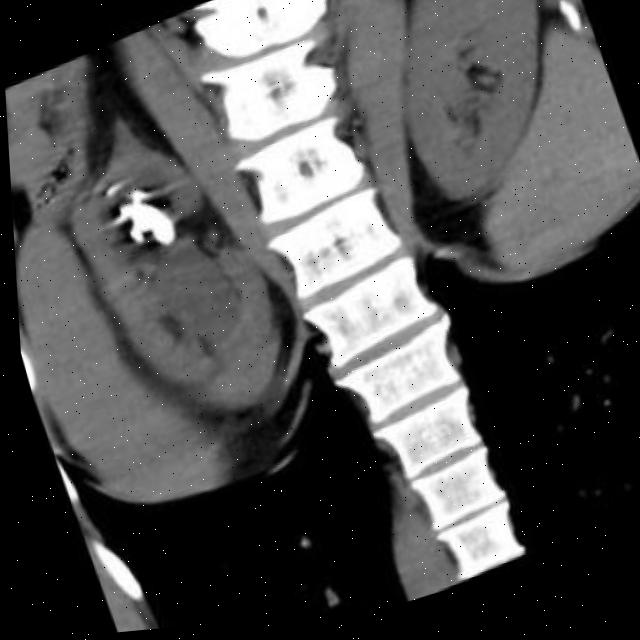Tas_Var: (100, 189, 180, 273), (124, 186, 143, 208), (100, 185, 117, 203)
